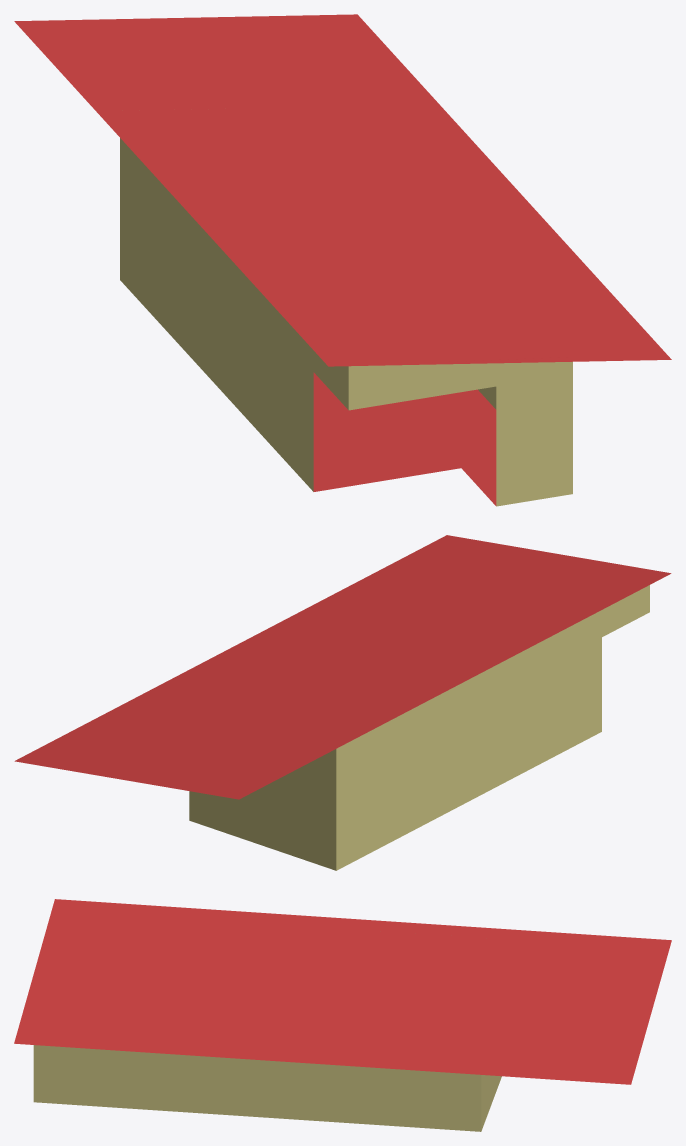
The picture shows the model from 3 angles, top to bottom: view 1: azimuth 30°, elevation 25°; view 2: azimuth 150°, elevation 25°; view 3: azimuth 270°, elevation 25°; orthographic projection. The views are drawn at different scales.
Size of the model in its own units: 21.43 by 39.53 by 8.17.
